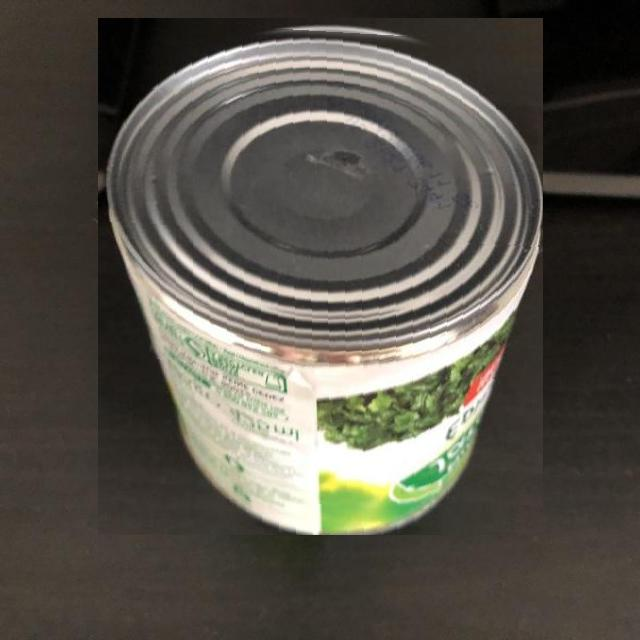recyclable: (98, 18, 543, 535)
